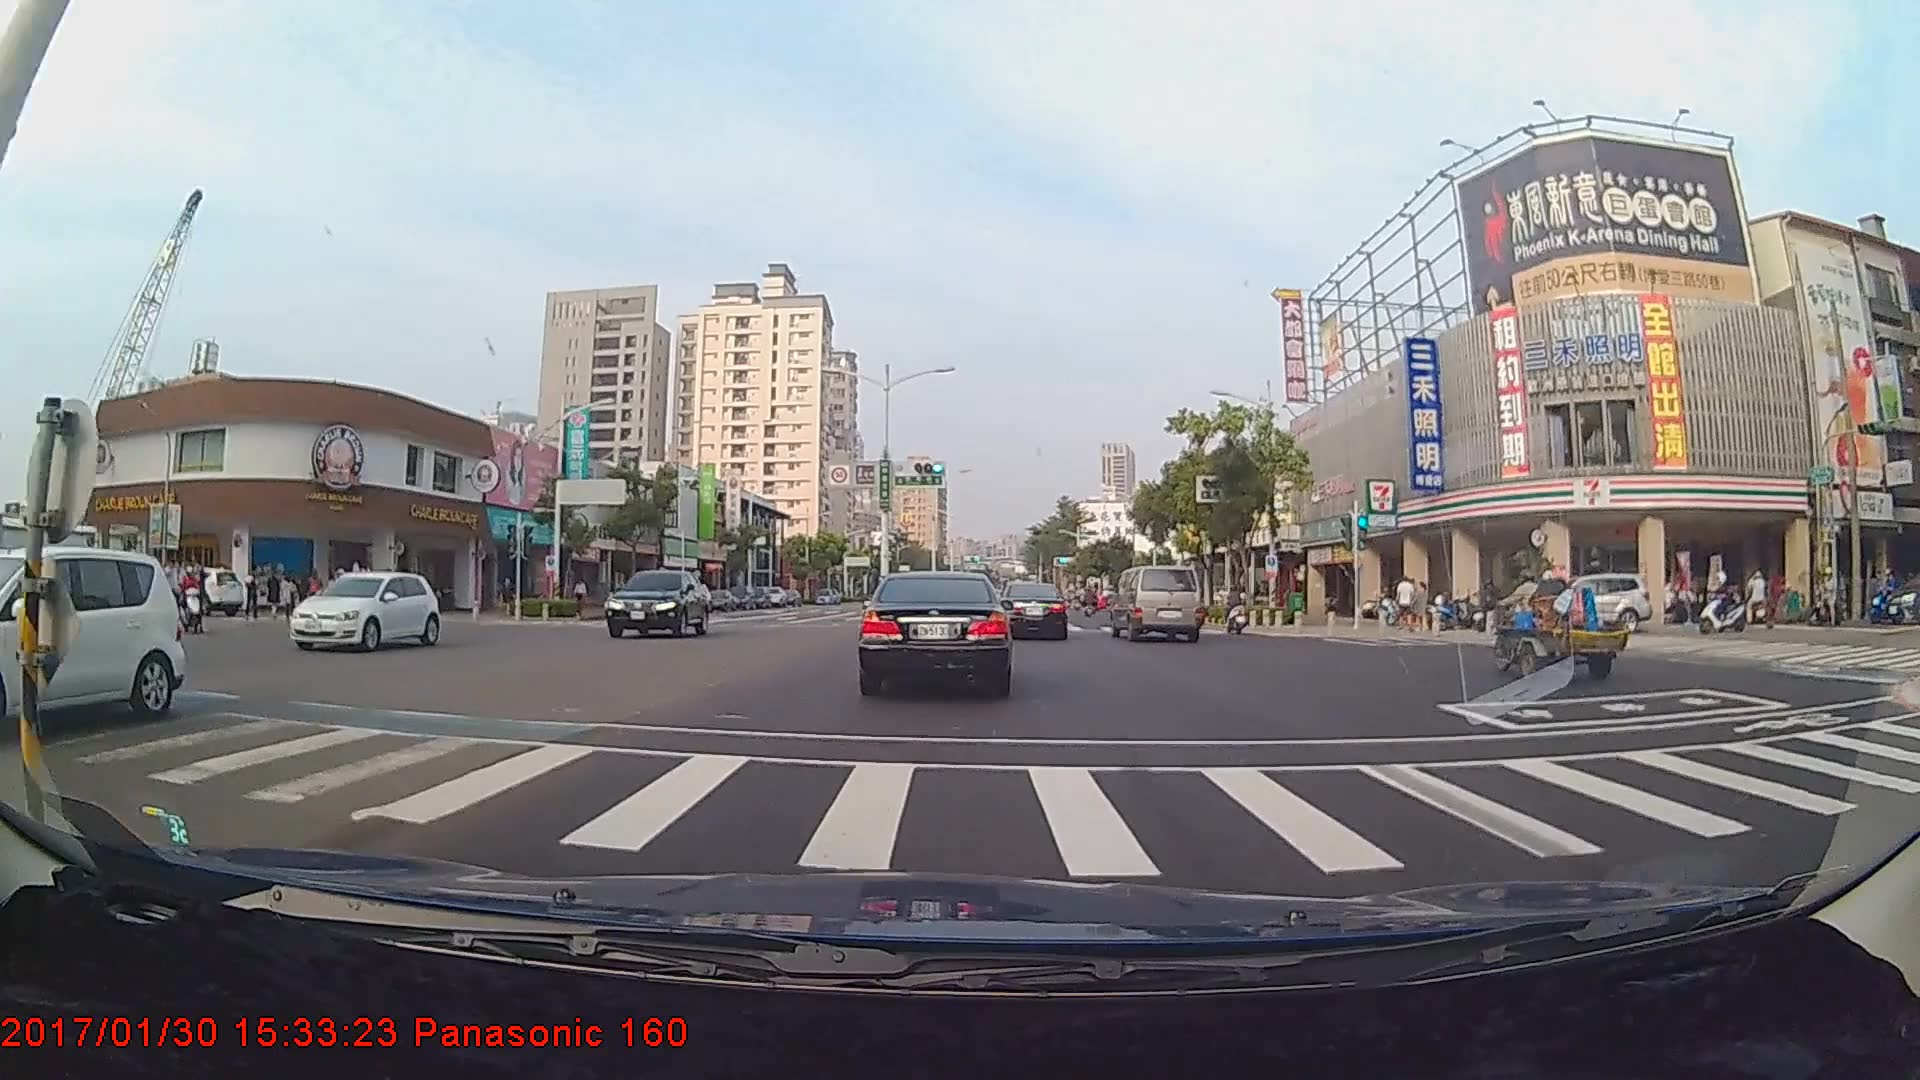pedestrian: (1394, 573, 1416, 632)
rider: (1694, 569, 1758, 640), (1216, 583, 1256, 638)
vehicle: (0, 544, 180, 730), (859, 564, 1012, 696), (289, 569, 440, 651), (1495, 574, 1648, 636), (605, 567, 710, 639), (1111, 565, 1202, 644), (999, 581, 1068, 640)
